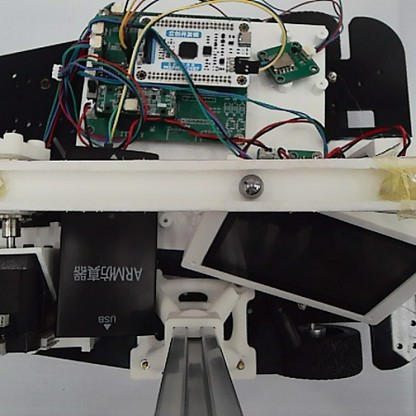ironball: (234, 172, 263, 200)
